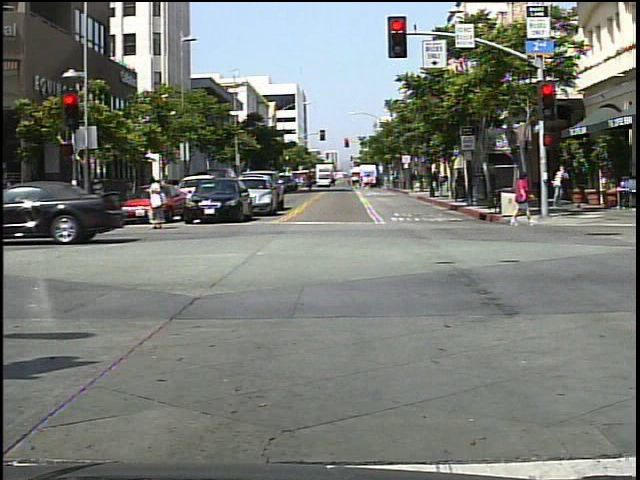person: (508, 168, 537, 230), (146, 173, 172, 230), (549, 160, 571, 211)
